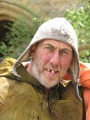male: (26, 28, 73, 90)
